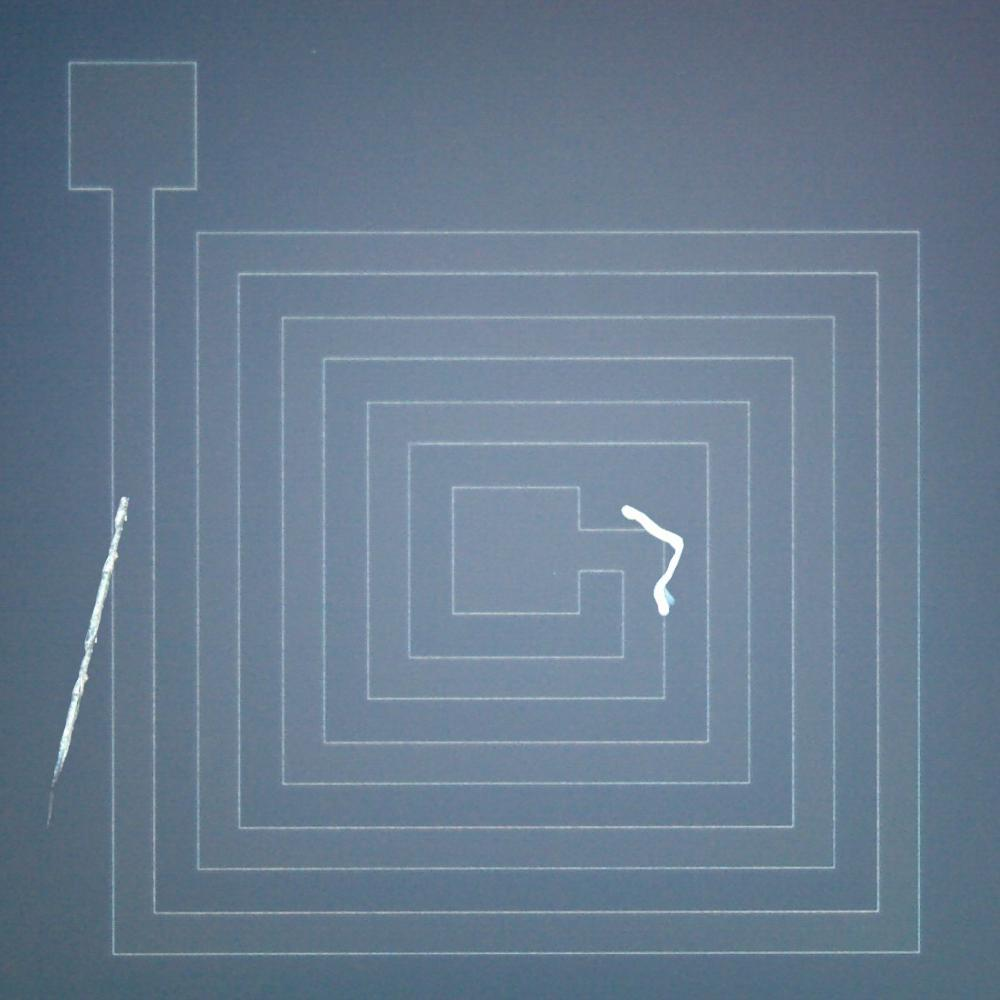line: (612, 496, 700, 626)
scratch: (46, 487, 142, 796)
